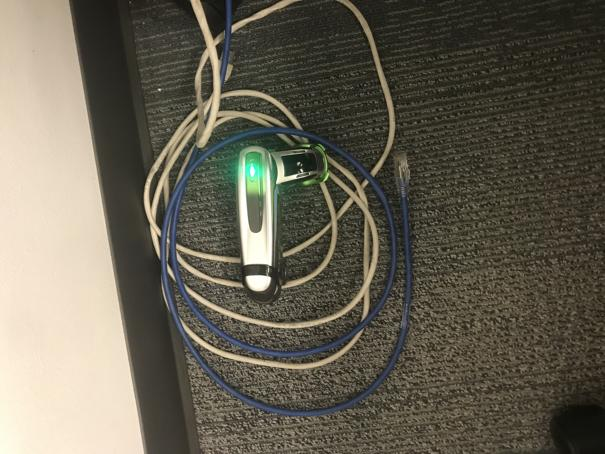Freewheel: (238, 143, 331, 302)
